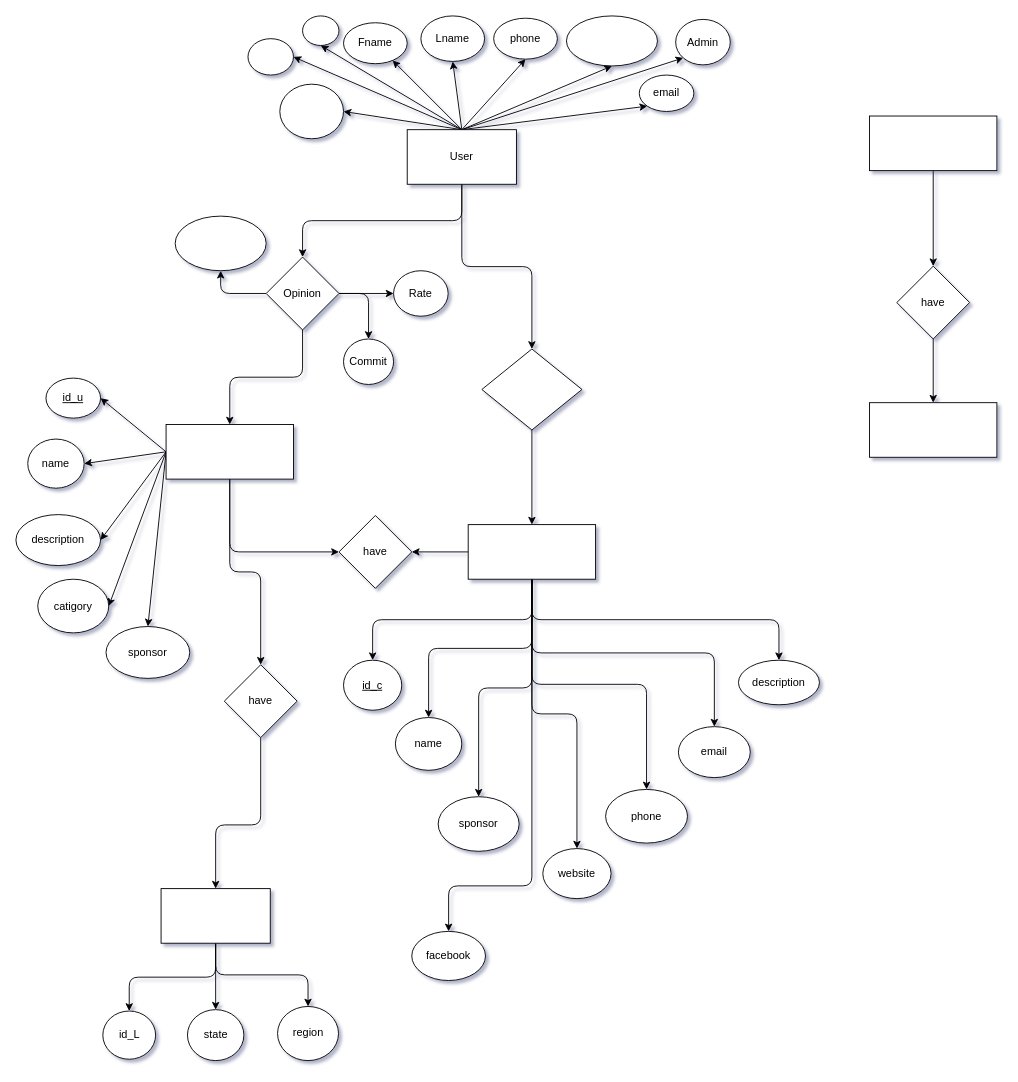
Image size: 1018x1082. Some labels were removed from this diagram. Here are the shapes that lost their labels. From the top down, the box of each, then its label:
(302, 15, 339, 46): Id
(566, 15, 657, 66): Date_of_Create
(247, 38, 293, 75): photo
(279, 83, 344, 139): password
(869, 115, 997, 171): Blocked_Company
(174, 215, 266, 271): Date_of_Commit
(481, 348, 582, 430): communication
(869, 402, 997, 457): Blocked_Product
(165, 424, 293, 479): Un_Blocked_Product
(467, 524, 596, 579): Un_Blocked_Company
(160, 888, 270, 943): Location
